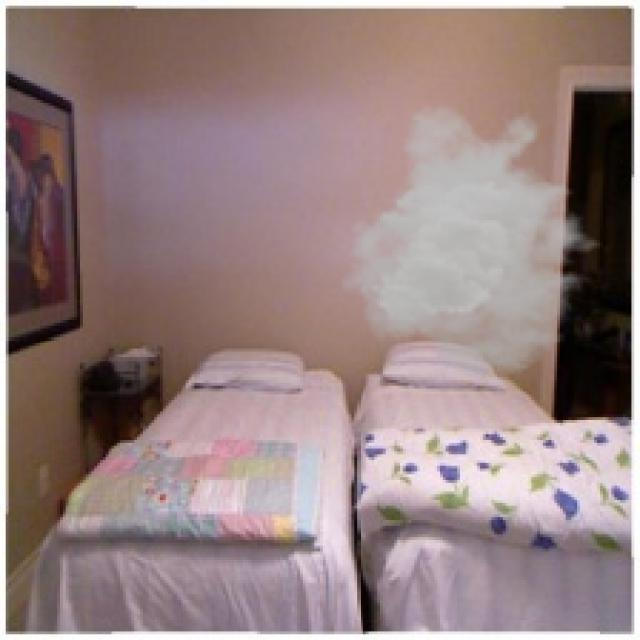smoke: (340, 103, 614, 377)
